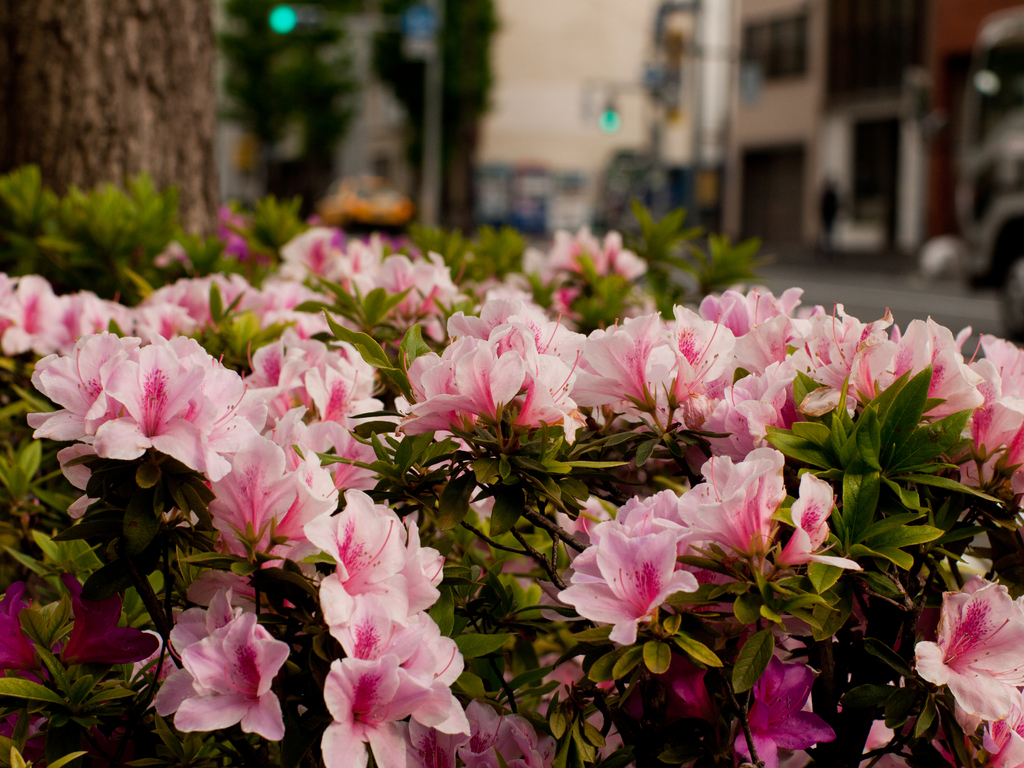Tree: (215, 0, 369, 215), (367, 0, 507, 232)
